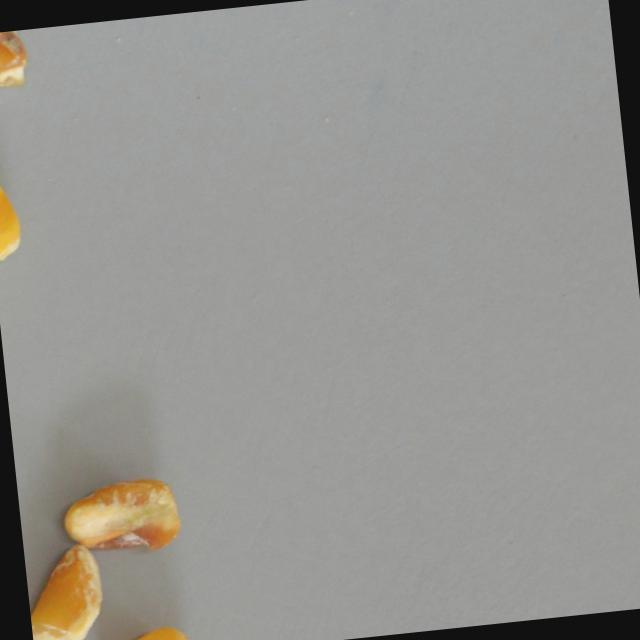dañado: (58, 474, 182, 557), (22, 541, 110, 640), (0, 29, 31, 90), (96, 622, 197, 640)
pelicula: (0, 169, 25, 269)
